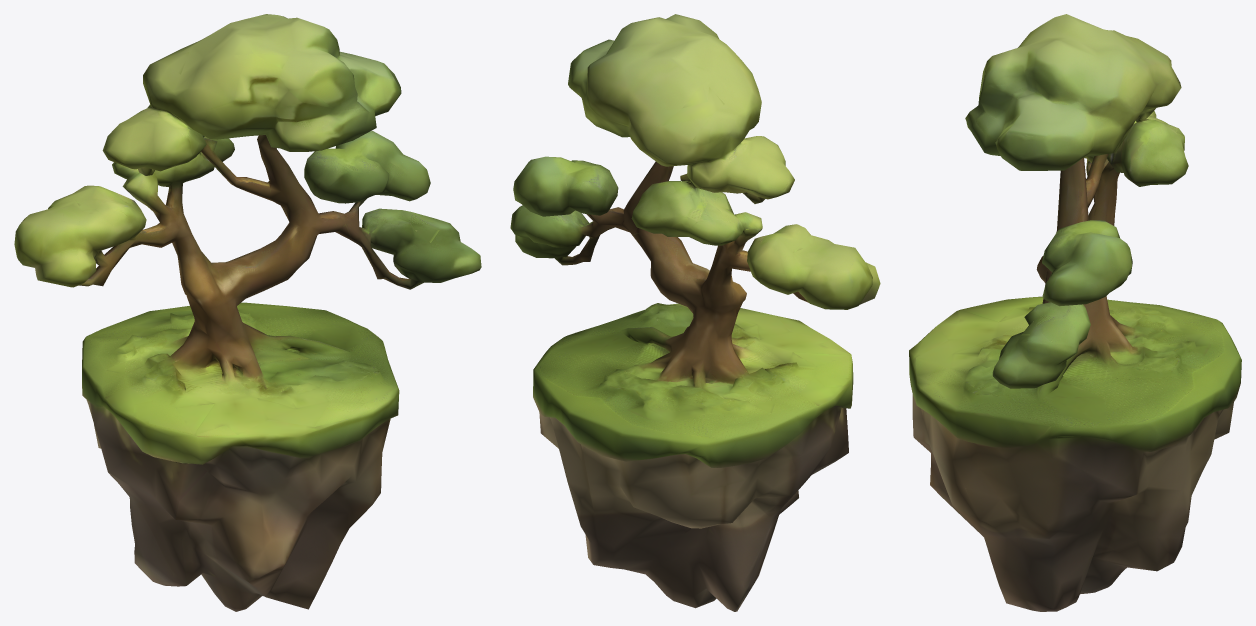
File: Meshy_AI_Floating_Bonsai_Islan_0314083927_texture.fbx
The picture shows the model from 3 angles, left to right: view 1: azimuth 30°, elevation 25°; view 2: azimuth 150°, elevation 25°; view 3: azimuth 270°, elevation 25°; orthographic projection. The views are drawn at different scales.
Parts seen in each view (by area): view 1: Mesh_0; view 2: Mesh_0; view 3: Mesh_0.
Part boxes in pixels (<box>): Mesh_0: <box>14,14,481,611</box>; Mesh_0: <box>510,14,880,611</box>; Mesh_0: <box>909,14,1241,611</box>.
Size of the model in its own units: 141 by 193 by 100.
1 material, 1 textured.
